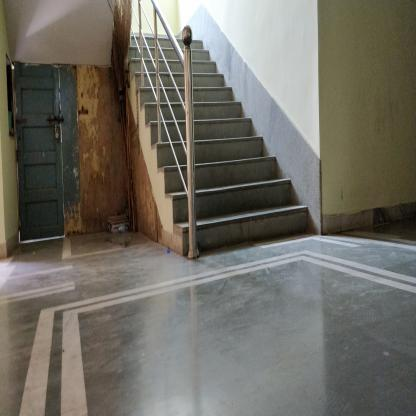stairs: (201, 101, 242, 259)
